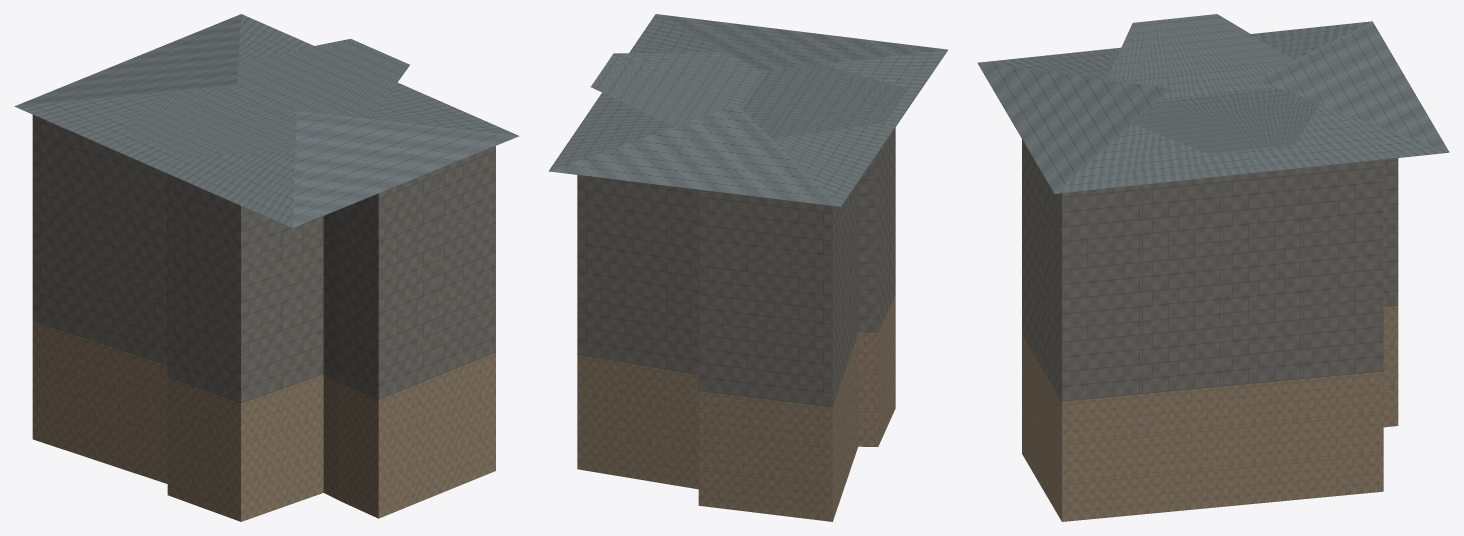
Rendered from bld_c44_-38_417.gltf.
3 views of the same model, side by side, from view 1: azimuth 30°, elevation 25°; view 2: azimuth 150°, elevation 25°; view 3: azimuth 270°, elevation 25° (orthographic). The views are drawn at different scales.
Visible parts, largest first — view 1: bld_c44_-38_417; view 2: bld_c44_-38_417; view 3: bld_c44_-38_417.
Boxes of the visible parts, x1,y1,x2,y2 form: bld_c44_-38_417: (14,14,519,521); bld_c44_-38_417: (549,14,947,521); bld_c44_-38_417: (977,14,1449,521).
Size of the model in its own units: 15.69 by 15.3 by 18.13.
3 materials, 3 textured.
